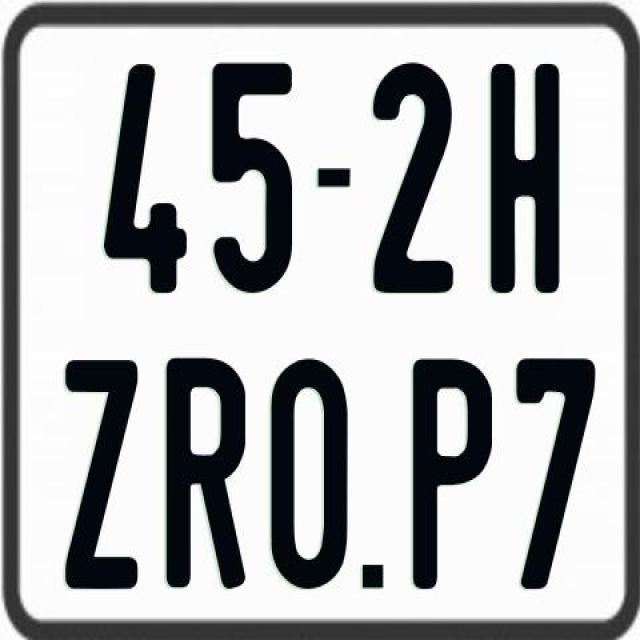0: (268, 356, 348, 591)
2: (374, 61, 462, 298)
4: (100, 61, 186, 291)
5: (211, 58, 291, 296)
7: (515, 357, 593, 591)
H: (491, 64, 565, 302)
P: (414, 354, 498, 594)
R: (165, 358, 251, 588)
Z: (64, 355, 142, 584)
